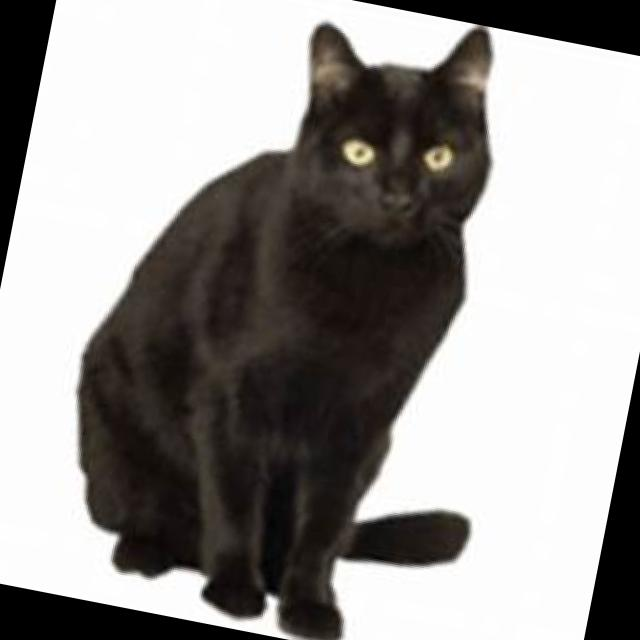animal: (37, 0, 567, 640)
